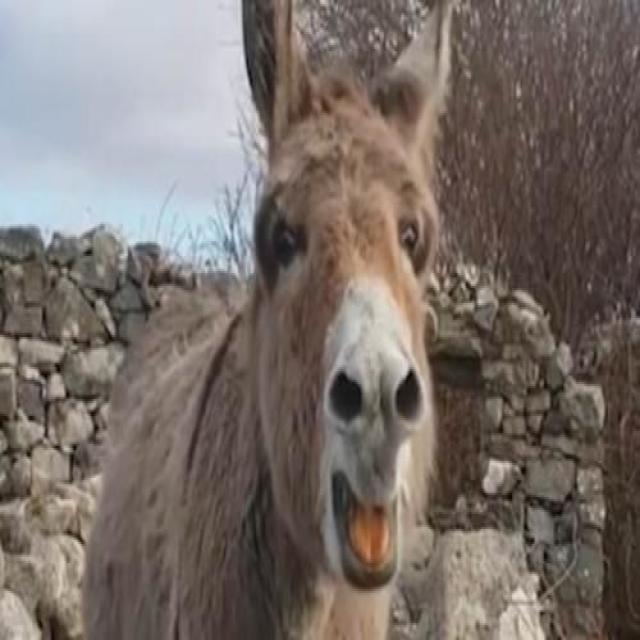Donkey: (86, 2, 462, 640)
